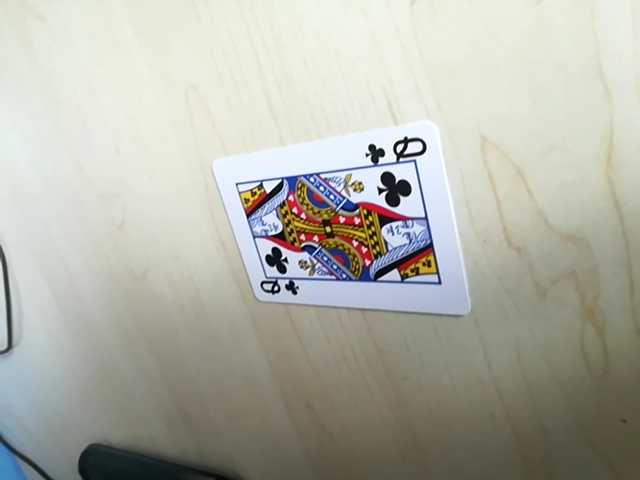mh q: (370, 130, 430, 163), (249, 273, 302, 300)
